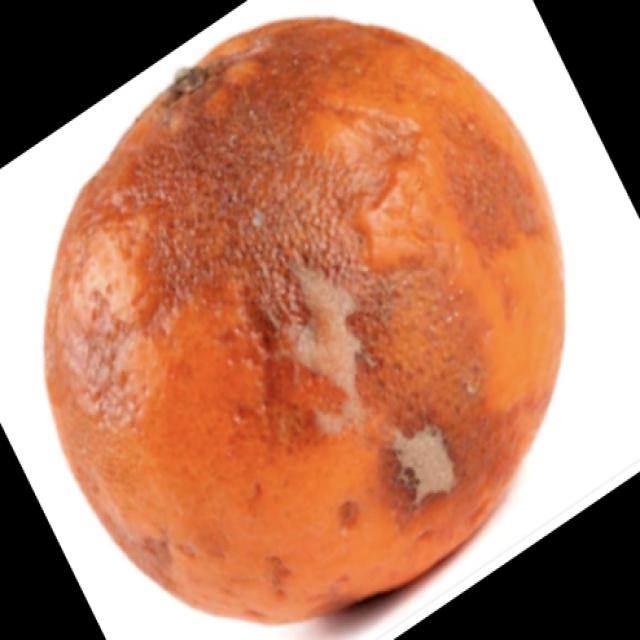sedikit_busuk: (49, 28, 561, 618)
